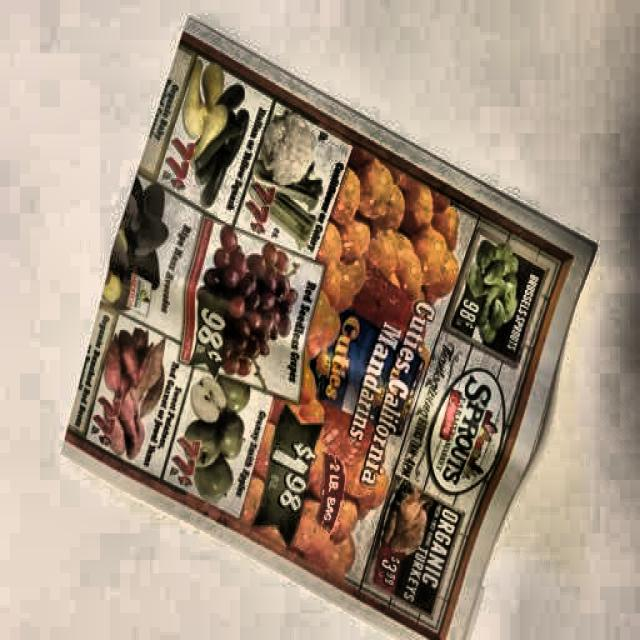paper: (77, 8, 602, 635)
